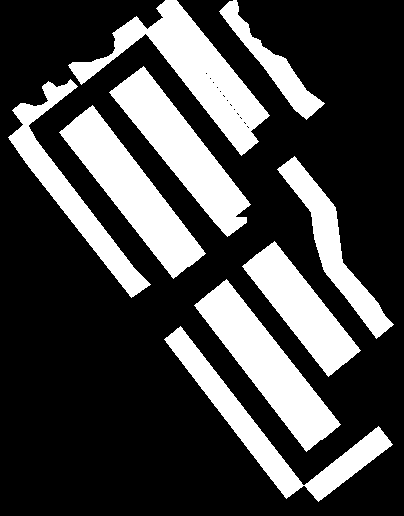parkingspot: (8, 122, 150, 297), (164, 326, 303, 498), (109, 78, 246, 236), (277, 156, 393, 338), (74, 105, 205, 266), (59, 118, 190, 278), (210, 279, 340, 439), (194, 291, 323, 451), (126, 66, 250, 218), (144, 18, 258, 155), (156, 0, 269, 130), (242, 252, 345, 376), (258, 241, 360, 364), (219, 0, 324, 119), (304, 426, 392, 501), (68, 16, 148, 84), (12, 79, 77, 127)
